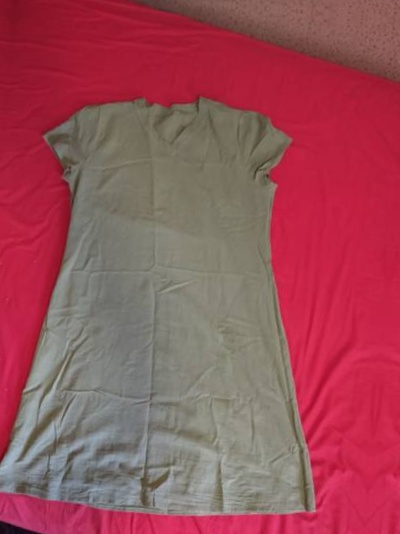Dress: (0, 54, 341, 534), (0, 21, 0, 511)
